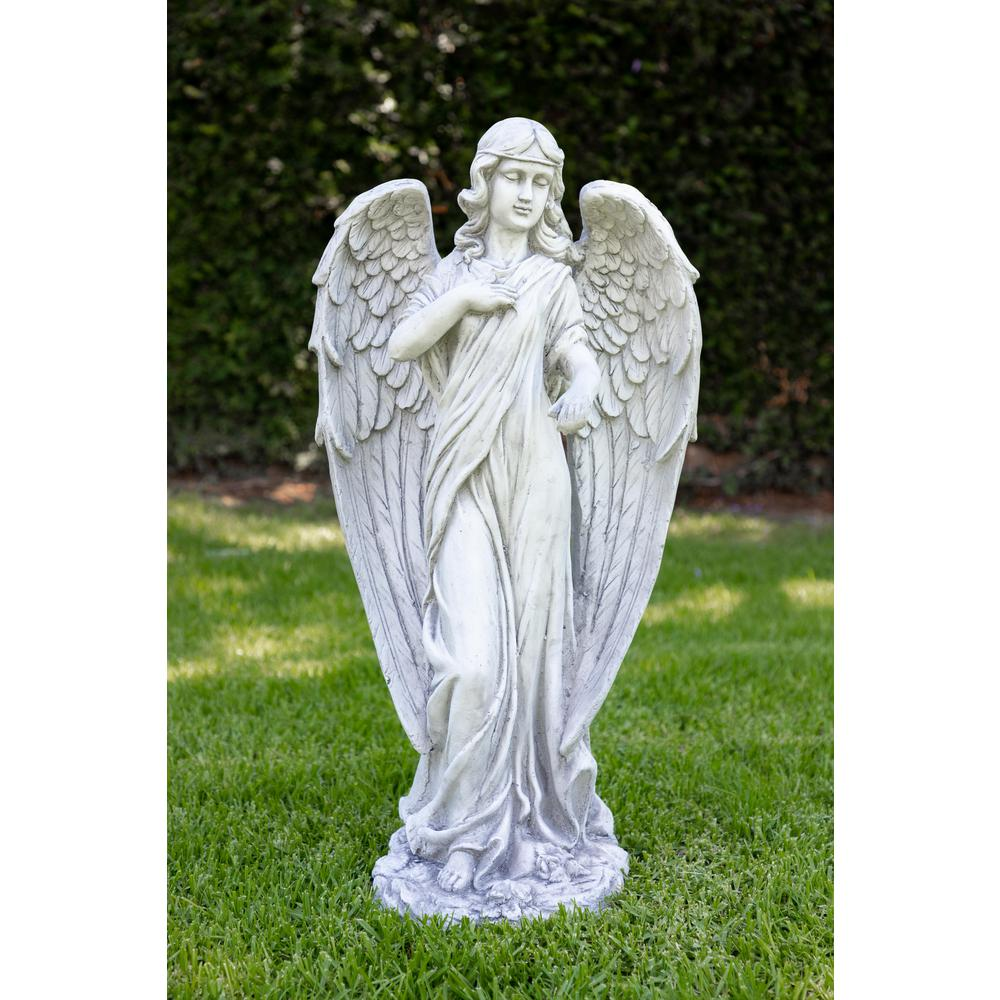person-like: (291, 103, 716, 927)
